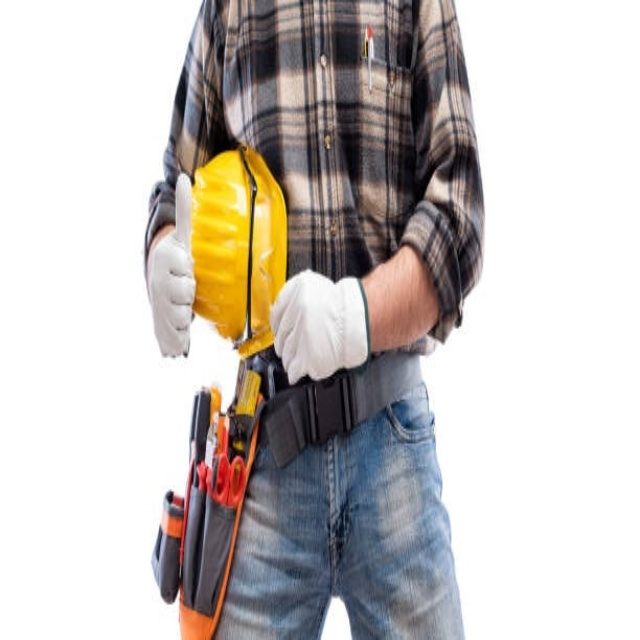Guantes: (269, 268, 370, 386), (147, 177, 196, 362)
